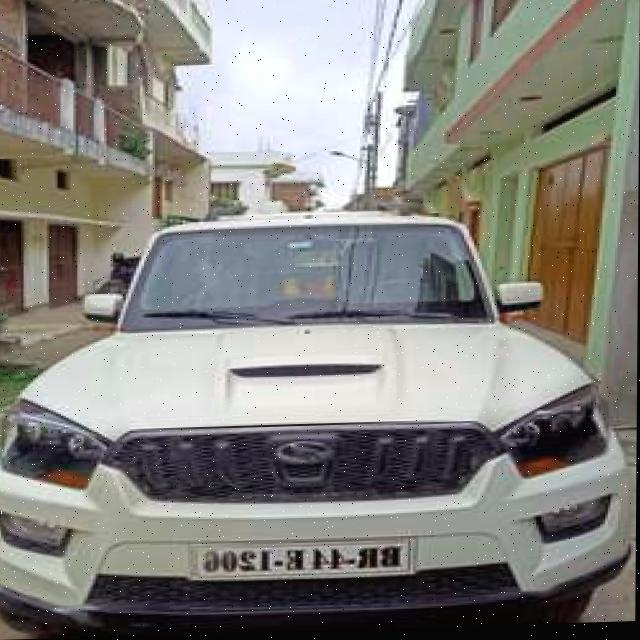plate: (191, 540, 411, 584)
